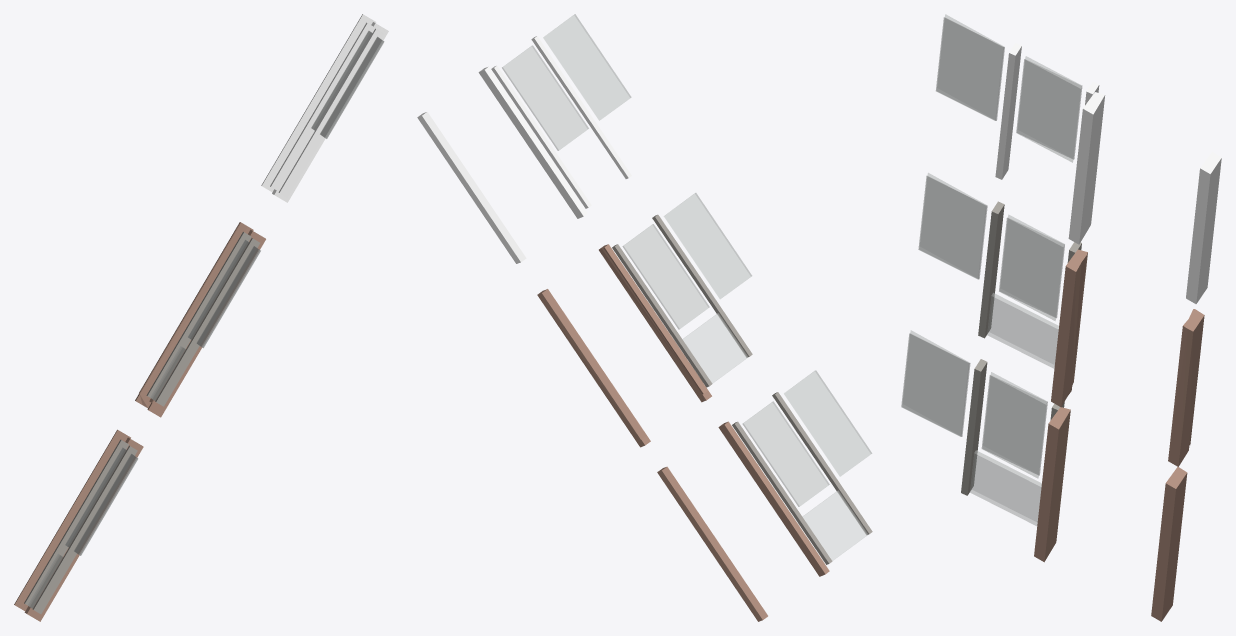
3 renders of one model, left to right at view 1: azimuth 30°, elevation 25°; view 2: azimuth 150°, elevation 25°; view 3: azimuth 270°, elevation 25°, orthographic. The views are drawn at different scales.
Parts seen in each view (by area): view 1: mesh; view 2: mesh; view 3: mesh.
Part boxes in pixels (<box>): mesh: <box>14,14,388,621</box>; mesh: <box>417,14,872,621</box>; mesh: <box>901,14,1221,621</box>.
Size of the model in its own units: 6.13 by 7.67 by 2.77.
